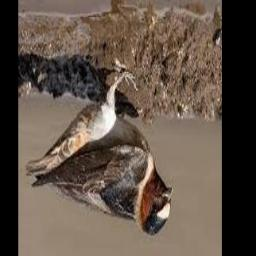Swallow: (27, 73, 173, 235)
